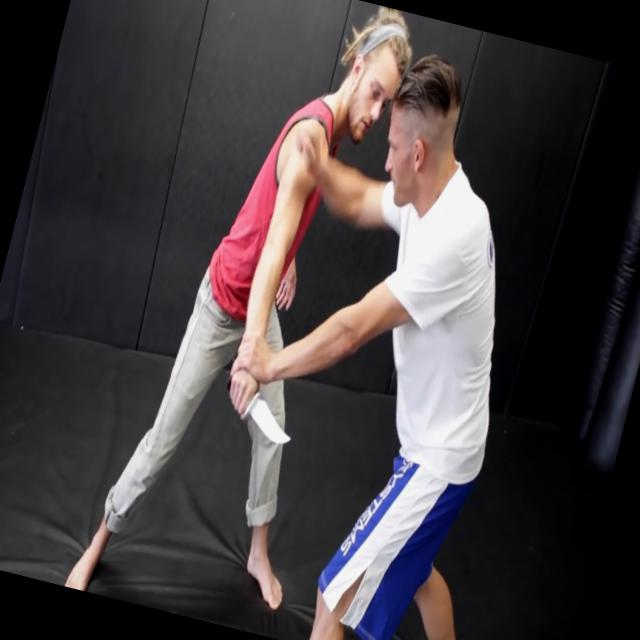knife: (212, 372, 308, 458)
